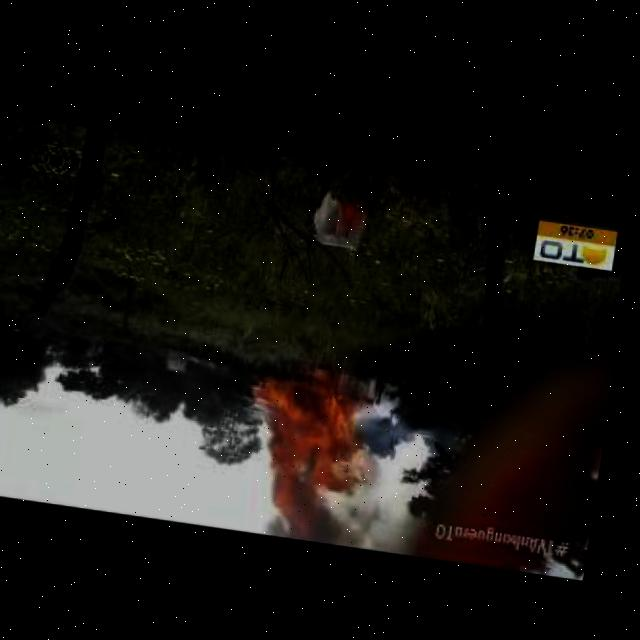Fire: (242, 370, 380, 525), (238, 476, 388, 545)
